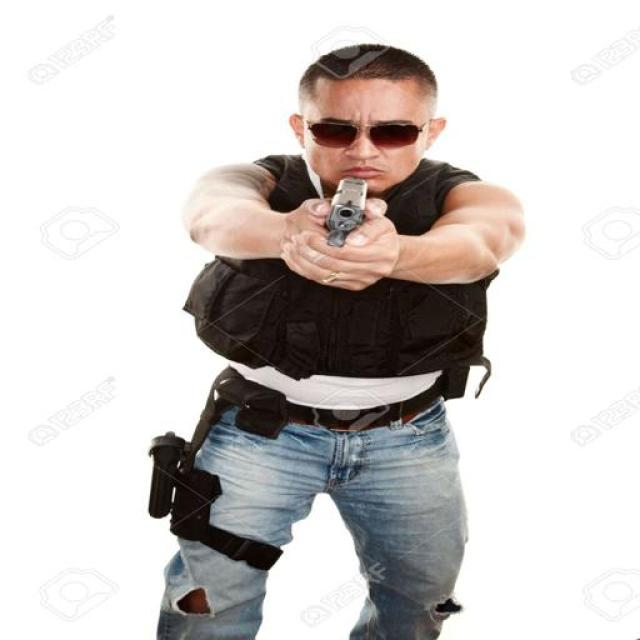pistol: (316, 173, 377, 251)
